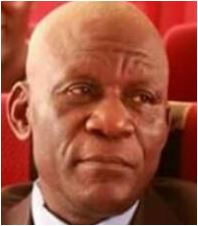without_facemask: (51, 126, 149, 203)
